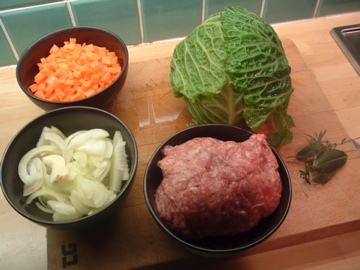cabbage: (168, 5, 297, 151)
